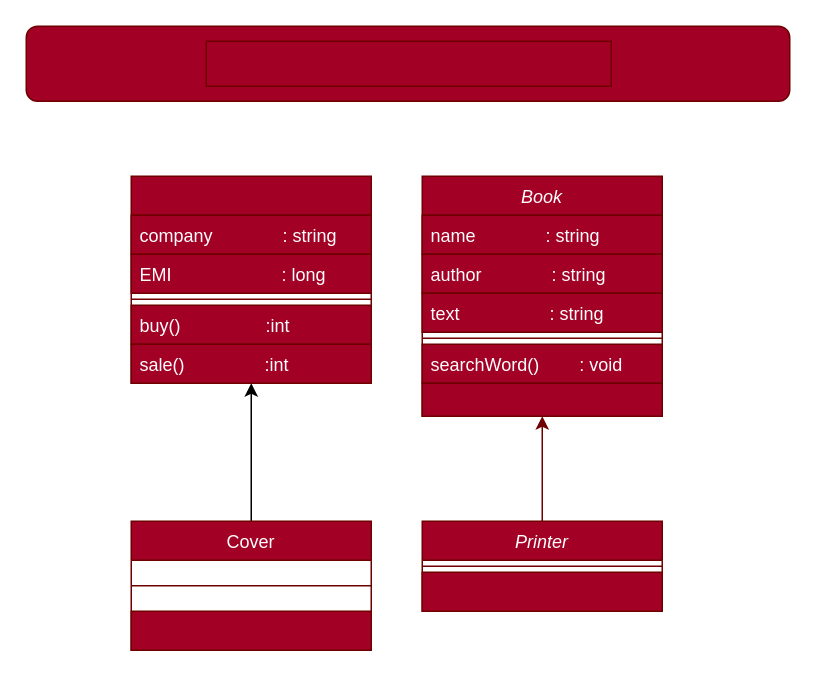
This 816x681 diagram has some shape labels left out. Here are the shapes that lost their labels. From the top down, the box of each, then its label:
(205, 40, 611, 86): Single Responsibility
(130, 175, 371, 383): Phone
(421, 382, 662, 416): replaceWord() : void
(421, 571, 662, 611): printBook() : void
(130, 610, 371, 650): applyCover() : int
